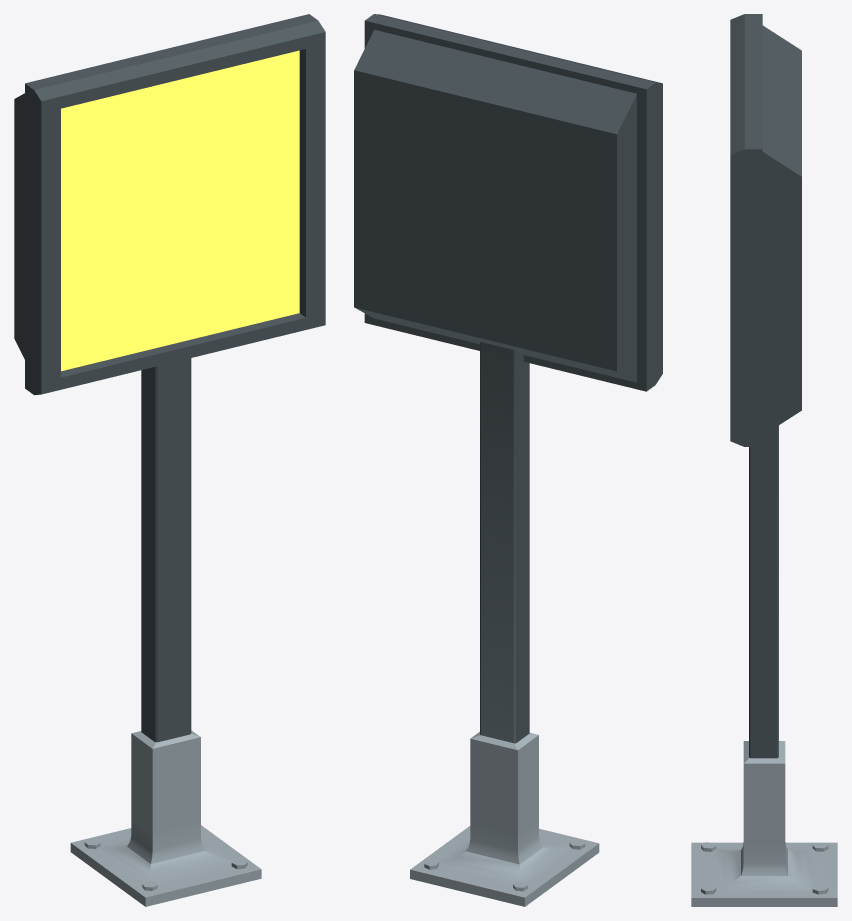
Rendered from puzzleStand_uved.fbx.
The picture shows the model from 3 angles, left to right: view 1: azimuth 30°, elevation 25°; view 2: azimuth 150°, elevation 25°; view 3: azimuth 270°, elevation 25°; orthographic projection. The views are drawn at different scales.
Parts seen in each view (by area): view 1: screen, head, neck, base; view 2: head, neck, base; view 3: head, base, neck.
Boxes of the visible parts, bbox=[...] form: screen: bbox=[61, 50, 299, 371]; head: bbox=[14, 14, 325, 395]; neck: bbox=[141, 358, 191, 742]; base: bbox=[70, 730, 261, 906]; head: bbox=[354, 14, 662, 391]; neck: bbox=[480, 342, 529, 743]; base: bbox=[410, 732, 599, 906]; head: bbox=[730, 14, 801, 446]; base: bbox=[691, 741, 837, 906]; neck: bbox=[749, 425, 778, 758].
Size of the model in its own units: 7.99 by 21.94 by 3.64.
